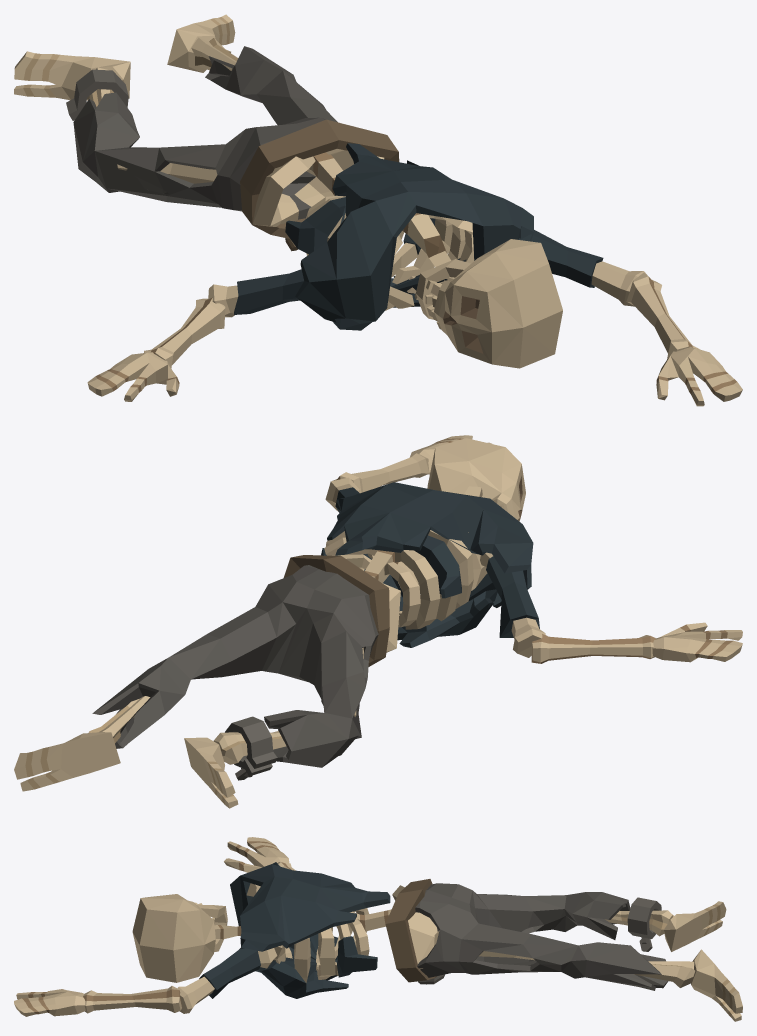
Rendered from SM_Prop_Skeleton_Slave_Lying_01.fbx.
3 views of the same model, one above another, from view 1: azimuth 30°, elevation 25°; view 2: azimuth 150°, elevation 25°; view 3: azimuth 270°, elevation 25° (orthographic). The views are drawn at different scales.
Parts seen in each view (by area): view 1: SM_Prop_Skeleton_Slave_Lying_01; view 2: SM_Prop_Skeleton_Slave_Lying_01; view 3: SM_Prop_Skeleton_Slave_Lying_01.
Boxes of the visible parts, bbox=[...] form: SM_Prop_Skeleton_Slave_Lying_01: bbox=[14, 14, 742, 406]; SM_Prop_Skeleton_Slave_Lying_01: bbox=[14, 435, 742, 808]; SM_Prop_Skeleton_Slave_Lying_01: bbox=[14, 837, 742, 1021].
Bounding box in the file's own units: 130 × 33.55 × 221.
